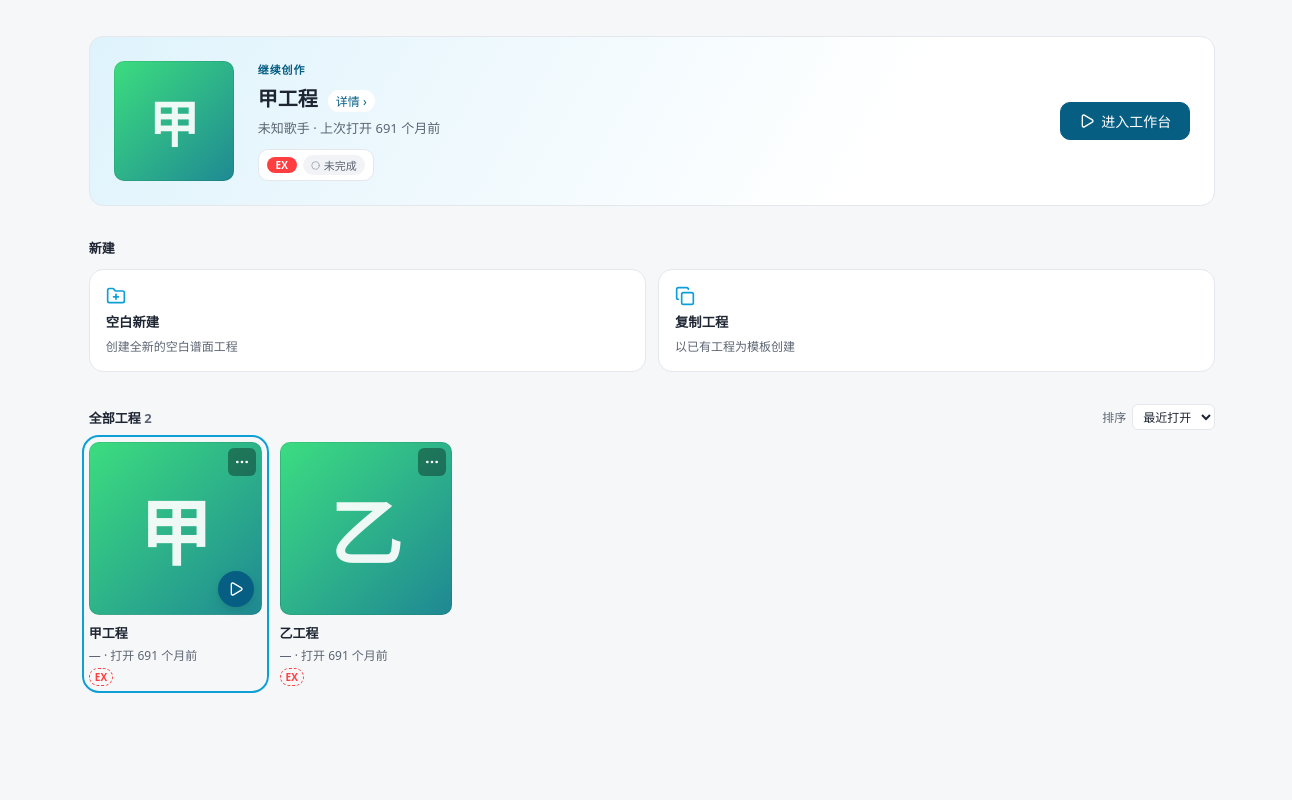
Test case: issue 19 #1 · 主页 ↔ 详情切换动效的接线 › 点卡片进详情 → forward；点「主页」回来 → back
Step 1. Click the element showing "甲 甲工程 — · 打开 691 个月前 EX" → click(175, 564), box left=89, top=442, right=262, bottom=686
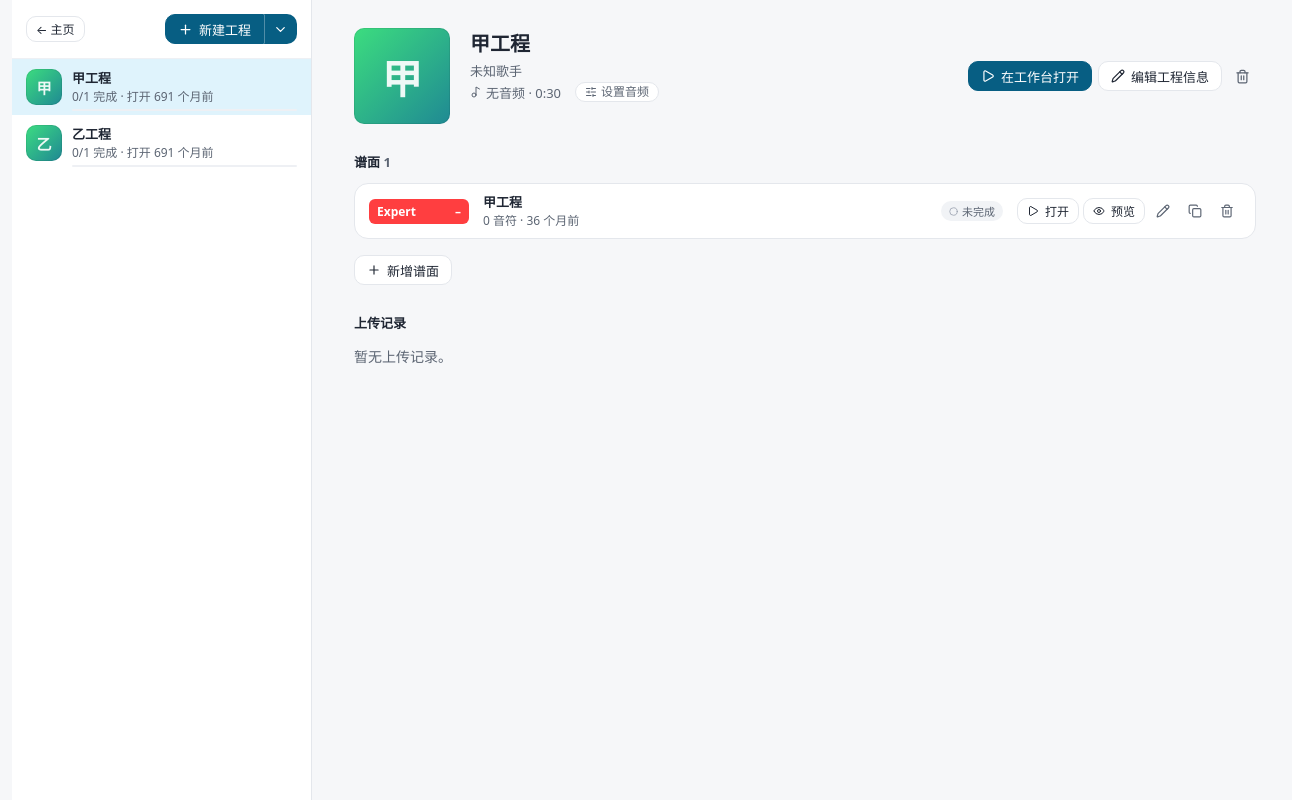
Expected: the heading "甲工程" is shown, left=470, top=30, right=530, bottom=57
Expected: the element that starts with "← 主页" is shown
Step 2. Click the button "← 主页" → click(55, 29), box left=26, top=16, right=85, bottom=42
(page scrolled)
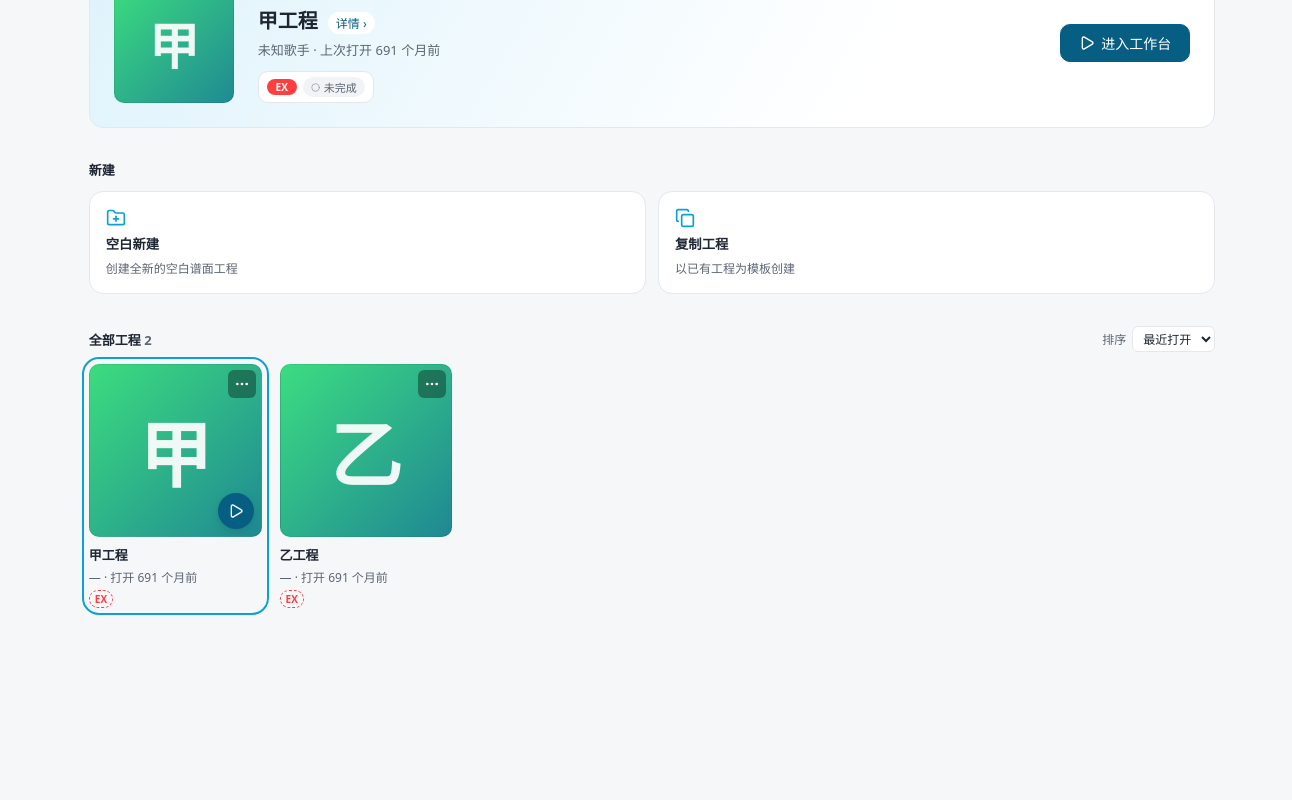
Expected: the heading "全部工程 2" is shown, left=89, top=330, right=152, bottom=348
Expected: the element that starts with "继续创作" is shown
